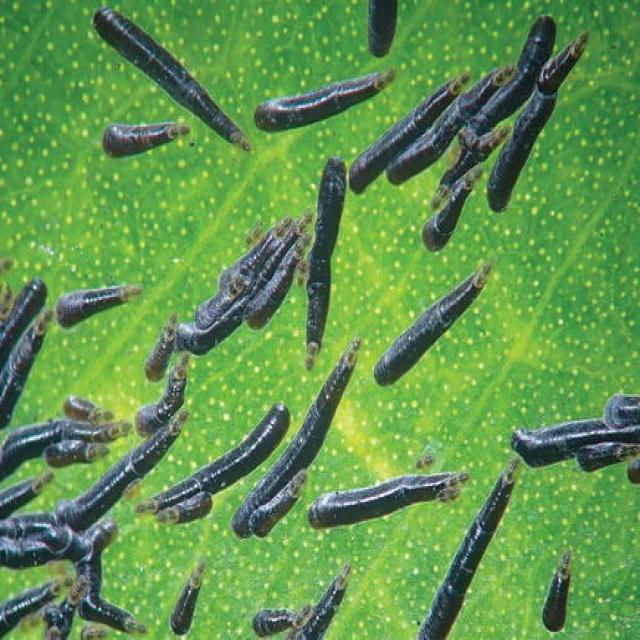IschnaspisLongirostris: (346, 9, 598, 262), (86, 3, 258, 164), (252, 24, 406, 178), (304, 470, 473, 530), (0, 266, 55, 436), (305, 142, 341, 379), (55, 275, 158, 342), (532, 546, 592, 640), (164, 560, 221, 640), (156, 482, 222, 543), (46, 430, 115, 481), (245, 587, 308, 640)
